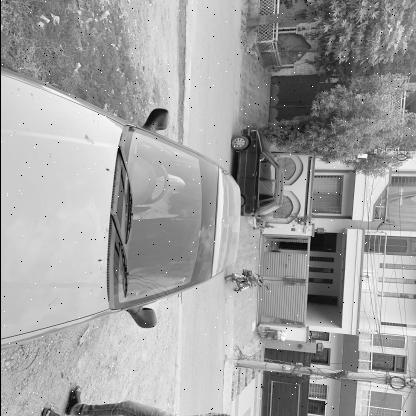no_seatbelt: (138, 170, 201, 214)
